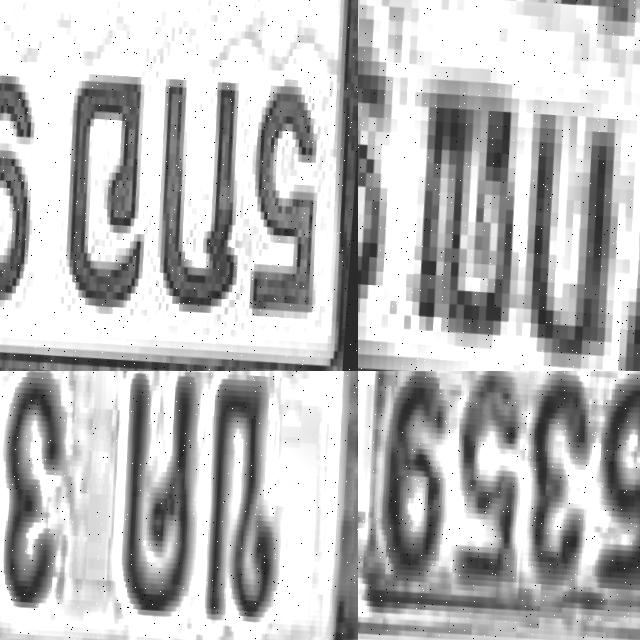license-plate: (0, 0, 358, 371), (358, 0, 640, 371), (0, 371, 358, 640), (358, 371, 640, 640)
